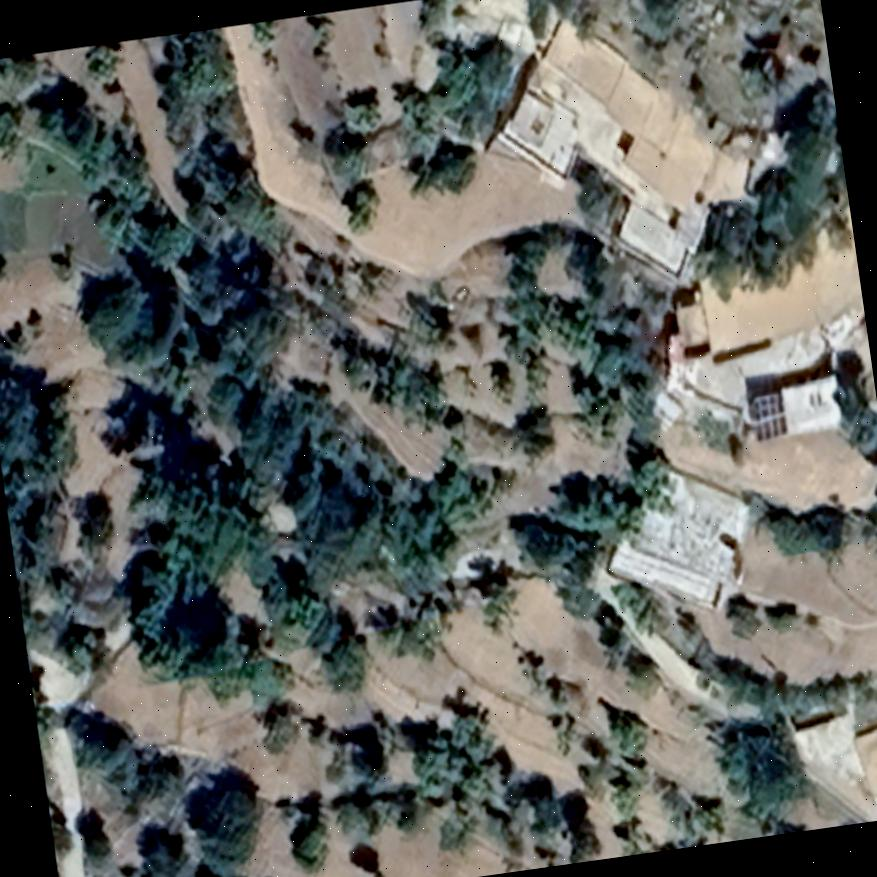Solarpanel: (744, 388, 790, 444)
